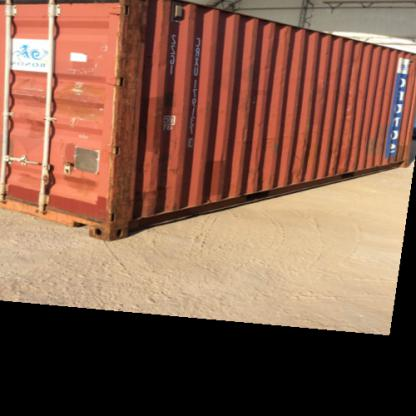Damage: (107, 12, 149, 214), (286, 126, 315, 183), (61, 147, 94, 177), (236, 92, 252, 152), (66, 68, 95, 100), (314, 58, 332, 106), (324, 136, 342, 174), (259, 41, 275, 80), (168, 159, 182, 202), (341, 90, 358, 124), (346, 44, 362, 74), (68, 110, 94, 126)
